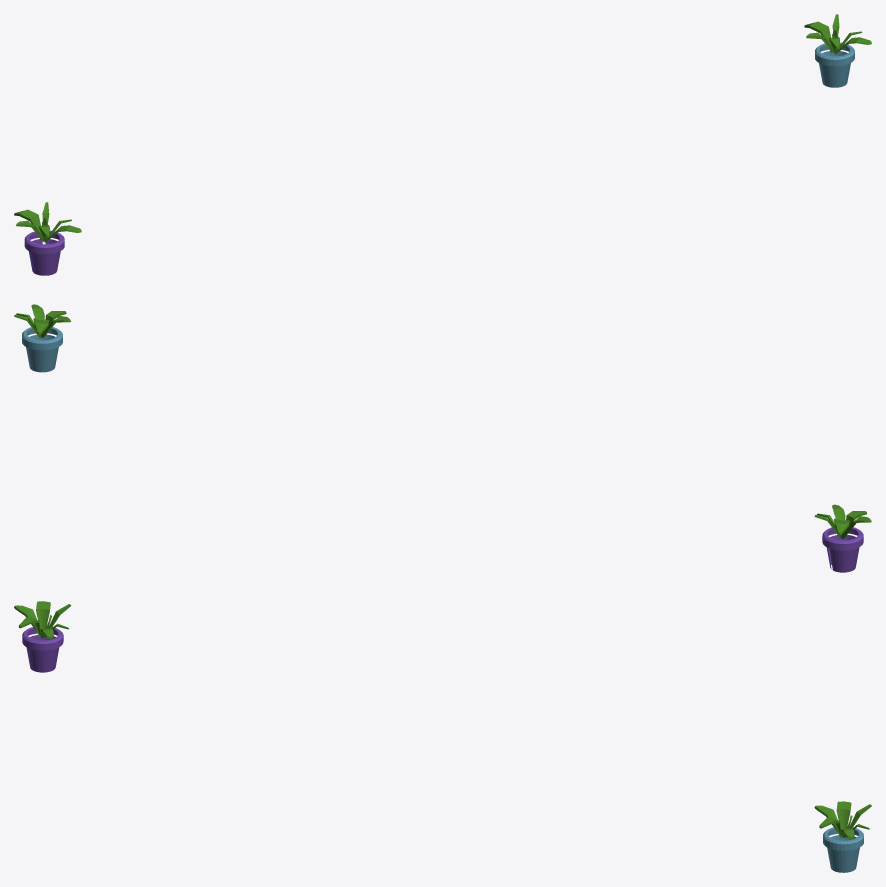
Rendered from Gorshki.fbx.
3 renders of one model, top to bottom at view 1: azimuth 30°, elevation 25°; view 2: azimuth 150°, elevation 25°; view 3: azimuth 330°, elevation 25°, orthographic. The views are drawn at different scales.
Visible parts, largest first — view 1: Цилиндр.005; view 2: Цилиндр.005; view 3: Цилиндр.005.
Part boxes in pixels (left/top/right/bottom): Цилиндр.005: left=14, top=14, right=871, bottom=275; Цилиндр.005: left=14, top=304, right=871, bottom=572; Цилиндр.005: left=14, top=601, right=871, bottom=872.
Size of the model in its own units: 125 by 7.93 by 9.34.
